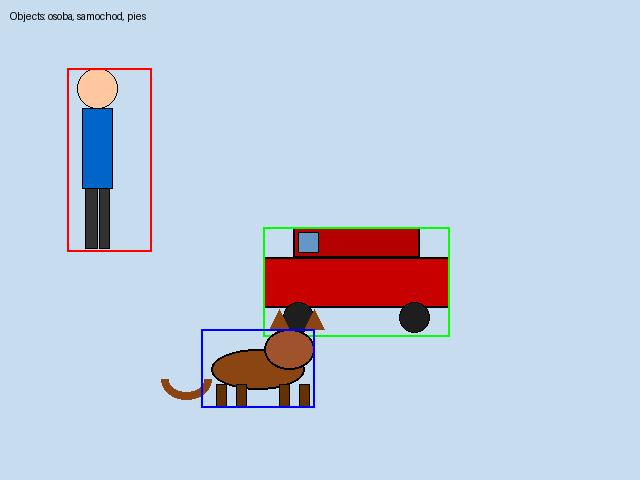osoba: (67, 68, 151, 251)
pies: (201, 329, 314, 407)
samochod: (263, 227, 449, 336)
